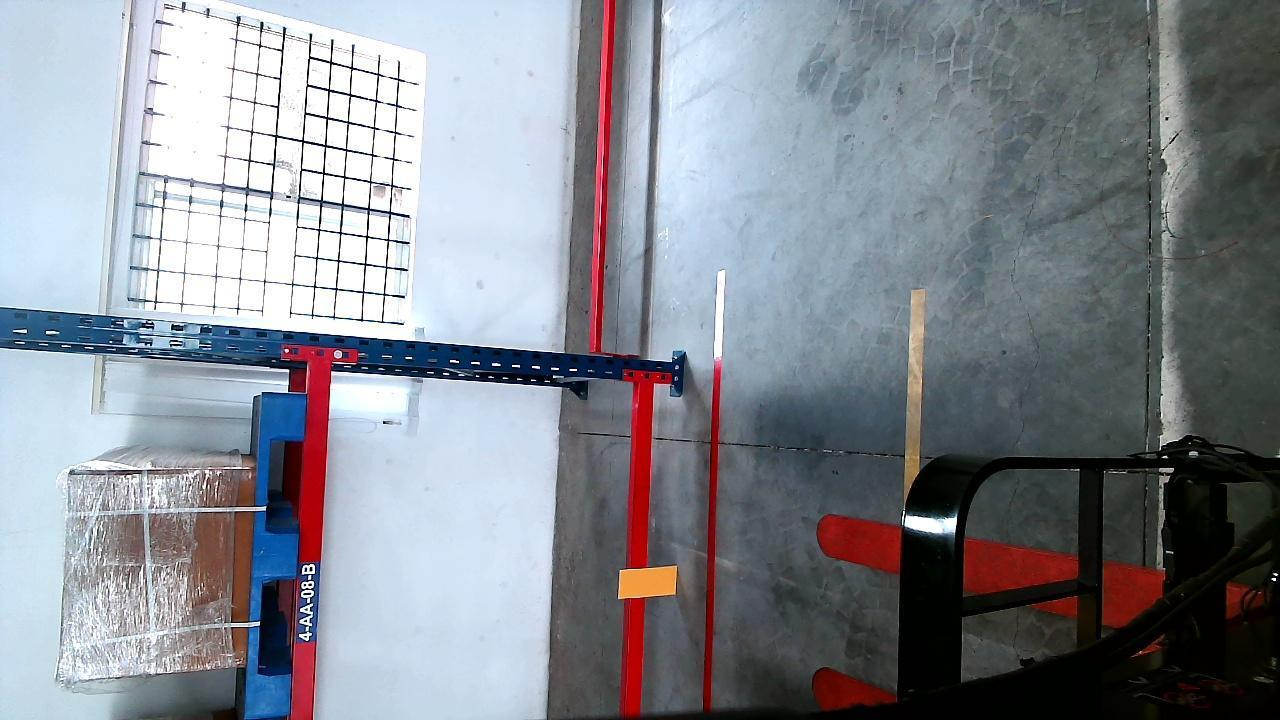h_rack: (291, 365, 333, 720), (625, 385, 655, 688)
orange_strip: (621, 566, 677, 598)
red_line: (700, 261, 733, 716)
small_pallet: (245, 408, 303, 720)
yellow_line: (905, 288, 924, 480)
